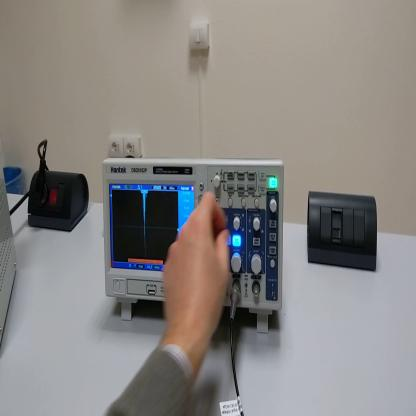hand: (161, 191, 231, 344)
oscilloscope: (103, 160, 289, 340)
power supply: (2, 153, 20, 350)
socket: (27, 171, 90, 234)
